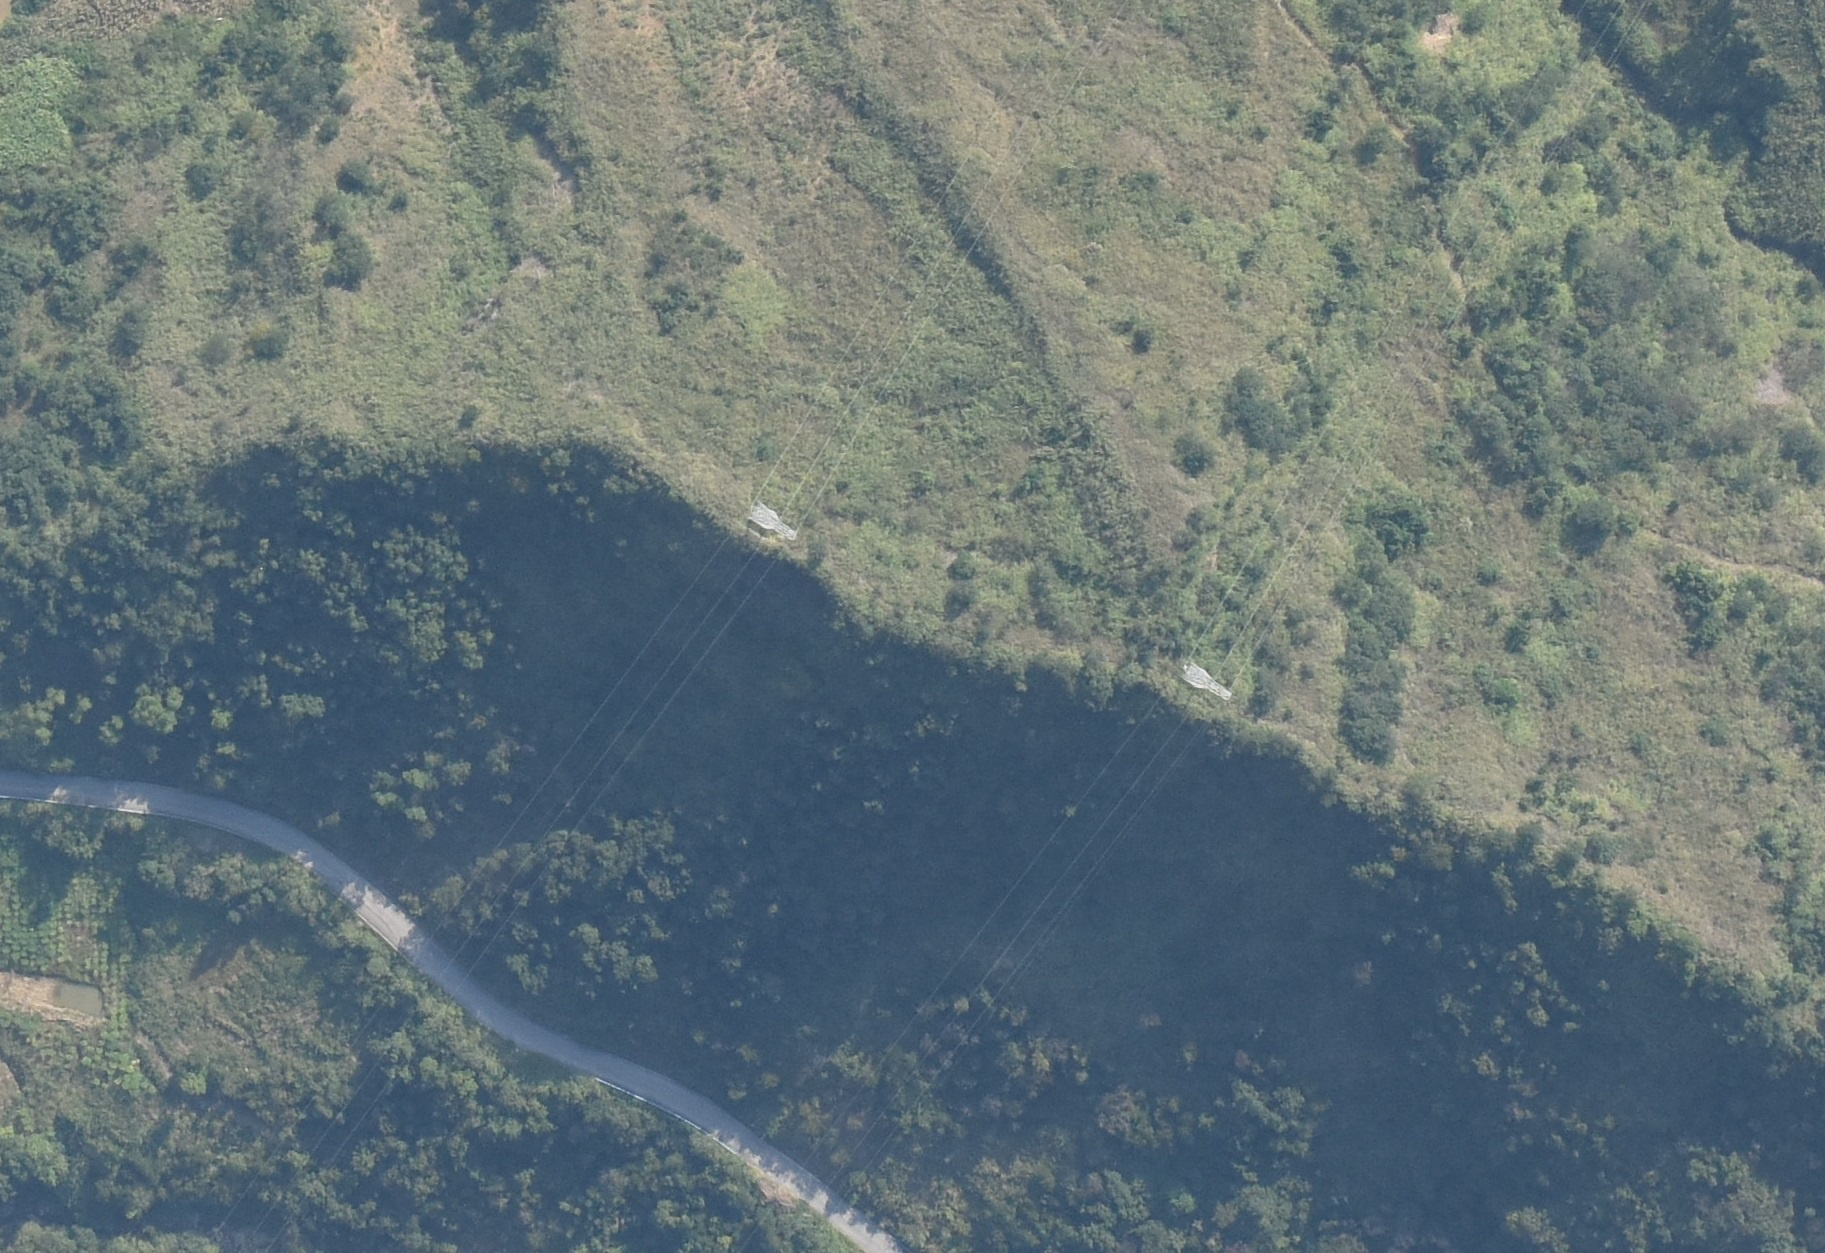cable-tower: (1179, 654, 1237, 702), (745, 496, 801, 544)
